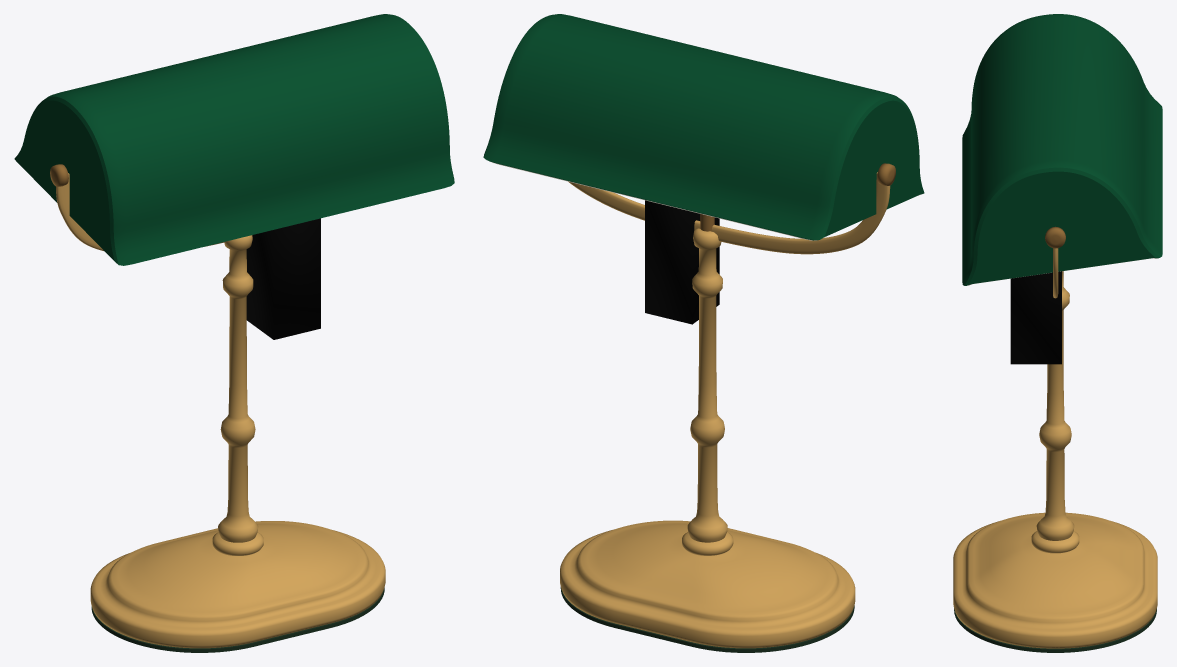
Rendered from lamp.glb.
3 renders of one model, left to right at view 1: azimuth 30°, elevation 25°; view 2: azimuth 150°, elevation 25°; view 3: azimuth 270°, elevation 25°, orthographic. The views are drawn at different scales.
Visible parts, largest first — view 1: LampShade, Lamp foot, PullHandle, Lamp stem turned, Lamp felt, Lamp harp strap; view 2: LampShade, Lamp foot, Lamp stem turned, PullHandle, Lamp harp strap, Lamp felt; view 3: LampShade, Lamp foot, Lamp stem turned, PullHandle, Lamp felt, Lamp harp screw.001.
Boxes of the visible parts, x1=… form: LampShade: x1=14, y1=14, x2=454, y2=265; Lamp foot: x1=90, y1=521, x2=385, y2=648; PullHandle: x1=246, y1=218, x2=320, y2=339; Lamp stem turned: x1=212, y1=235, x2=263, y2=555; Lamp felt: x1=91, y1=587, x2=384, y2=652; Lamp harp strap: x1=56, y1=173, x2=226, y2=250; LampShade: x1=483, y1=14, x2=924, y2=240; Lamp foot: x1=560, y1=520, x2=855, y2=648; Lamp stem turned: x1=682, y1=228, x2=733, y2=555; PullHandle: x1=645, y1=200, x2=719, y2=324; Lamp harp strap: x1=568, y1=172, x2=890, y2=254; Lamp felt: x1=560, y1=587, x2=854, y2=652; LampShade: x1=962, y1=14, x2=1162, y2=285; Lamp foot: x1=953, y1=512, x2=1157, y2=648; Lamp stem turned: x1=1031, y1=271, x2=1079, y2=553; PullHandle: x1=1010, y1=271, x2=1061, y2=364; Lamp felt: x1=954, y1=608, x2=1156, y2=652; Lamp harp screw.001: x1=1045, y1=226, x2=1065, y2=248.
Size of the model in its own units: 1.29 by 1.8 by 0.6778.
